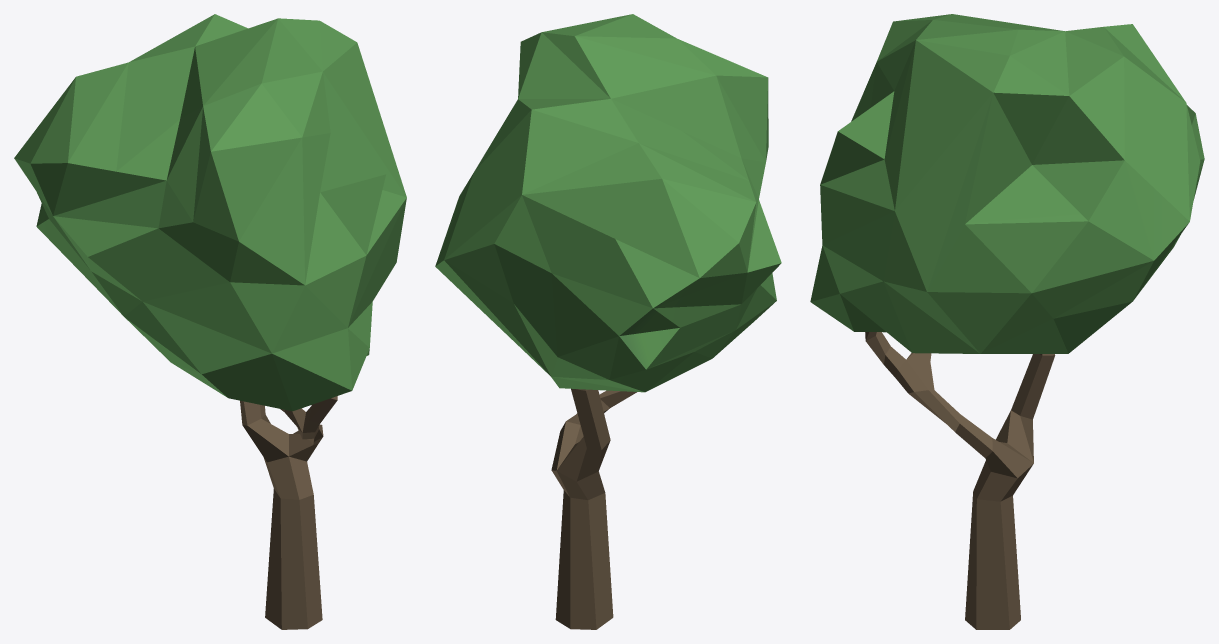
The model's file is Tree_01.fbx.
3 renders of one model, left to right at view 1: azimuth 30°, elevation 25°; view 2: azimuth 150°, elevation 25°; view 3: azimuth 270°, elevation 25°, orthographic.
Visible parts, largest first — view 1: Tree_01; view 2: Tree_01; view 3: Tree_01.
Part boxes in pixels (x1,y1,x2,y2): Tree_01: [14, 14, 406, 629]; Tree_01: [435, 14, 781, 629]; Tree_01: [810, 14, 1204, 629].
Size of the model in its own units: 264 by 496 by 301.
